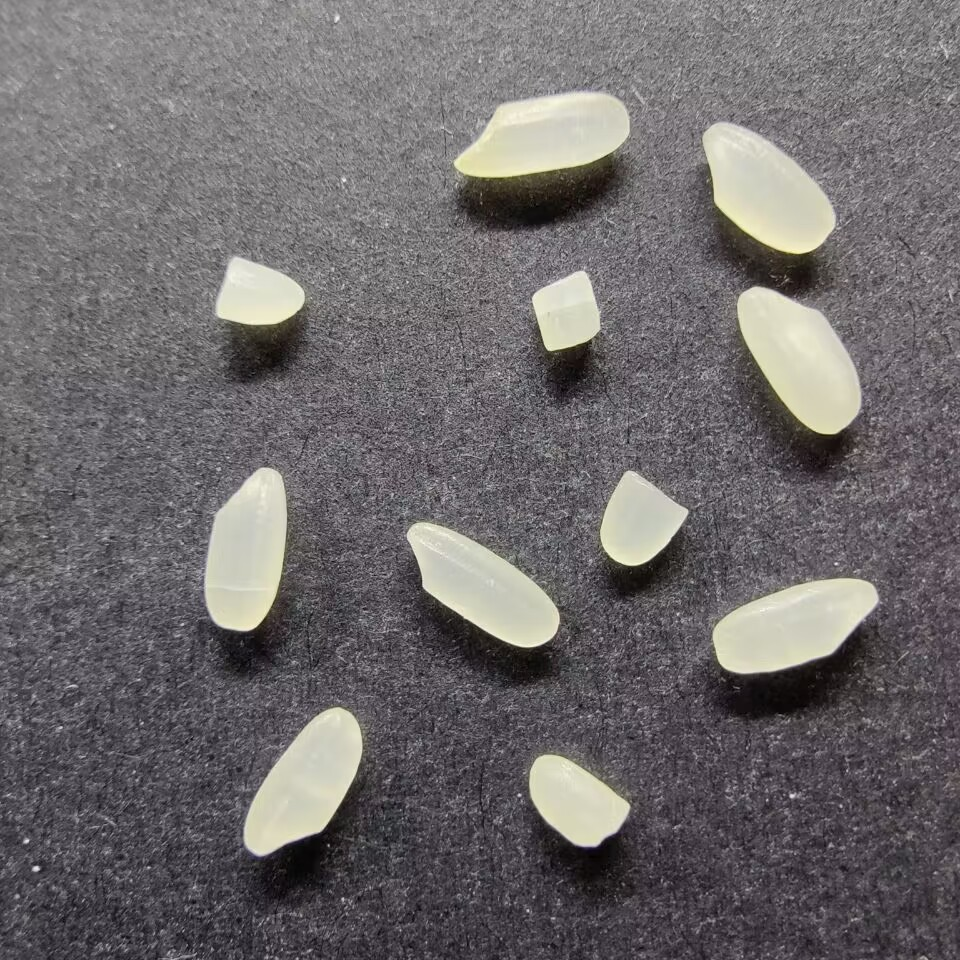broken: (526, 752, 632, 849), (597, 467, 689, 569), (212, 253, 306, 327), (530, 266, 603, 353)
rice: (406, 520, 563, 649), (735, 283, 865, 437), (241, 705, 366, 858), (697, 120, 839, 254), (711, 576, 881, 676), (452, 89, 633, 180), (202, 465, 289, 632)
